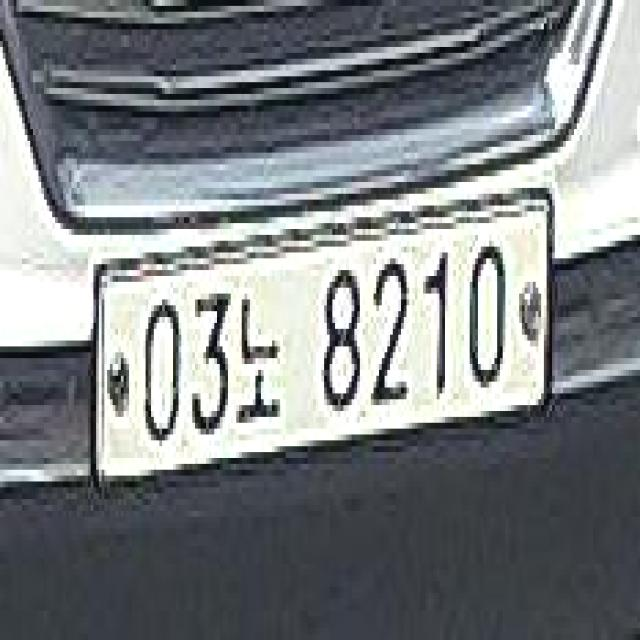illegal_plate: (90, 178, 555, 492)
